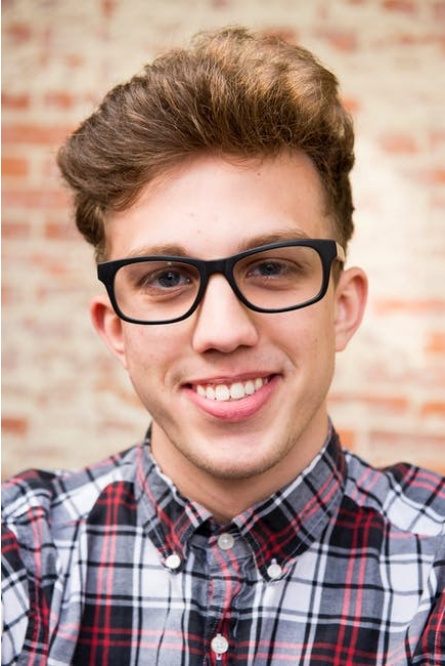face: (99, 145, 328, 483)
